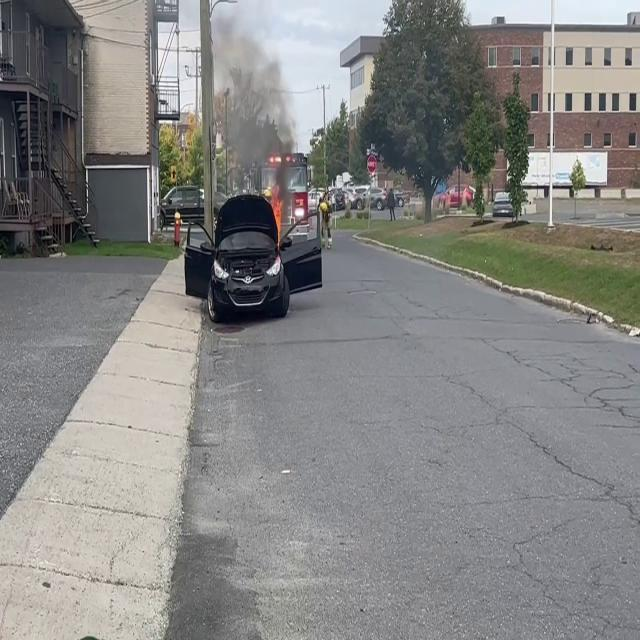Fire: (266, 186, 284, 248)
Smoke: (208, 5, 302, 181)
